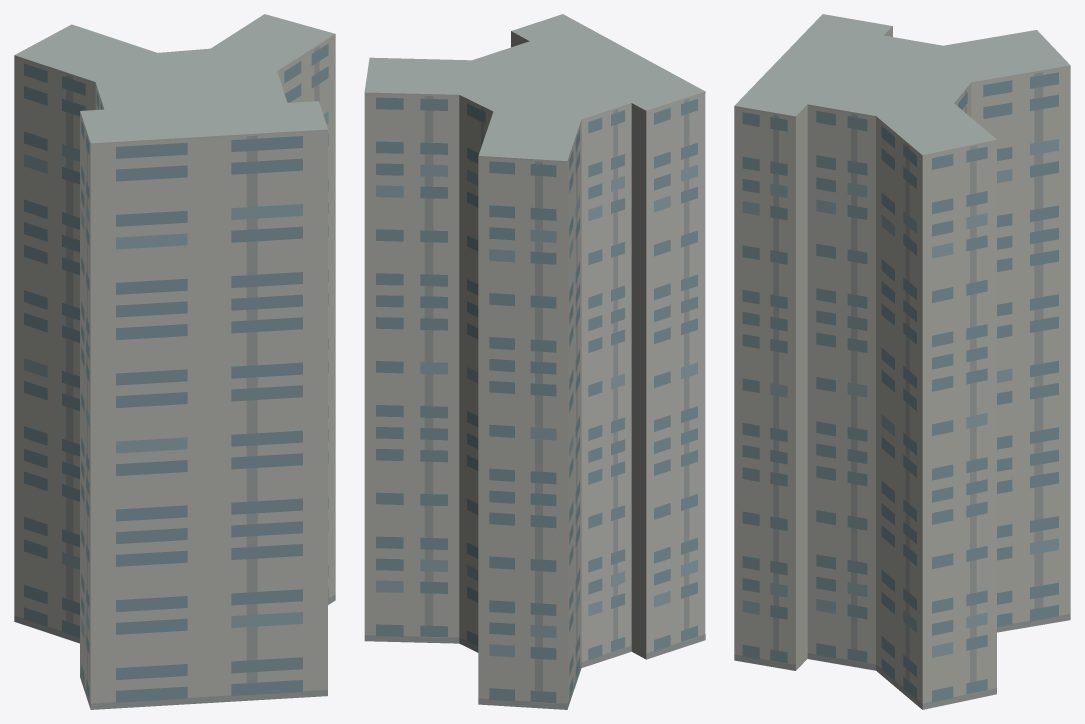
Rendered from residential-1c452062-7ddc-4481-b5bb-841218537a0a.glb.
3 renders of one model, left to right at view 1: azimuth 30°, elevation 25°; view 2: azimuth 150°, elevation 25°; view 3: azimuth 270°, elevation 25°, orthographic. The views are drawn at different scales.
Parts seen in each view (by area): view 1: residential-1c452062-7ddc-4481-b5bb-841218537a0a.tmp; view 2: residential-1c452062-7ddc-4481-b5bb-841218537a0a.tmp; view 3: residential-1c452062-7ddc-4481-b5bb-841218537a0a.tmp.
Part boxes in pixels (x1=…): residential-1c452062-7ddc-4481-b5bb-841218537a0a.tmp: x1=14, y1=14, x2=335, y2=709; residential-1c452062-7ddc-4481-b5bb-841218537a0a.tmp: x1=364, y1=14, x2=705, y2=709; residential-1c452062-7ddc-4481-b5bb-841218537a0a.tmp: x1=734, y1=14, x2=1070, y2=709.
Bounding box in the file's own units: 36.62 × 67 × 36.84.
